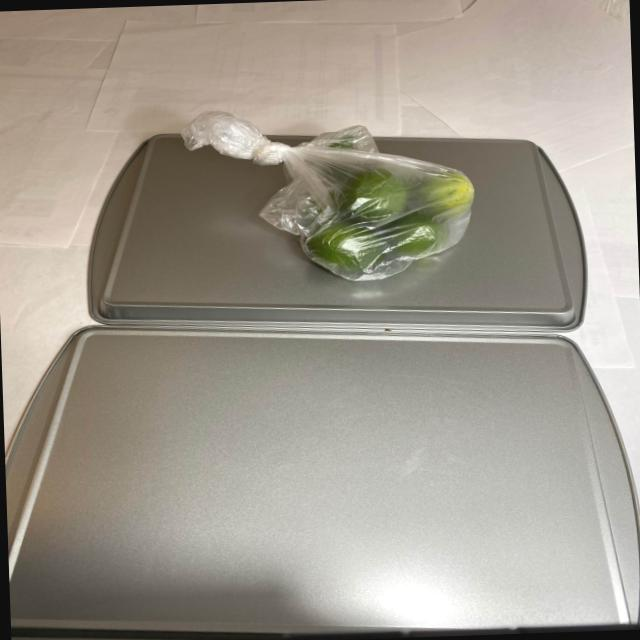lemon: (286, 128, 483, 286)
